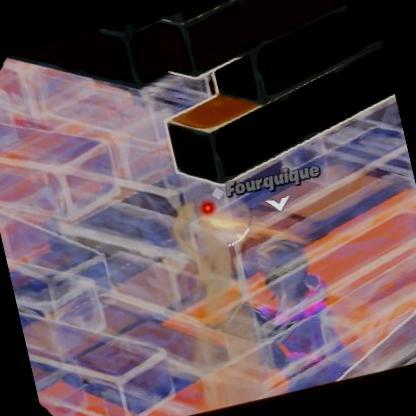person: (245, 234, 357, 404)
